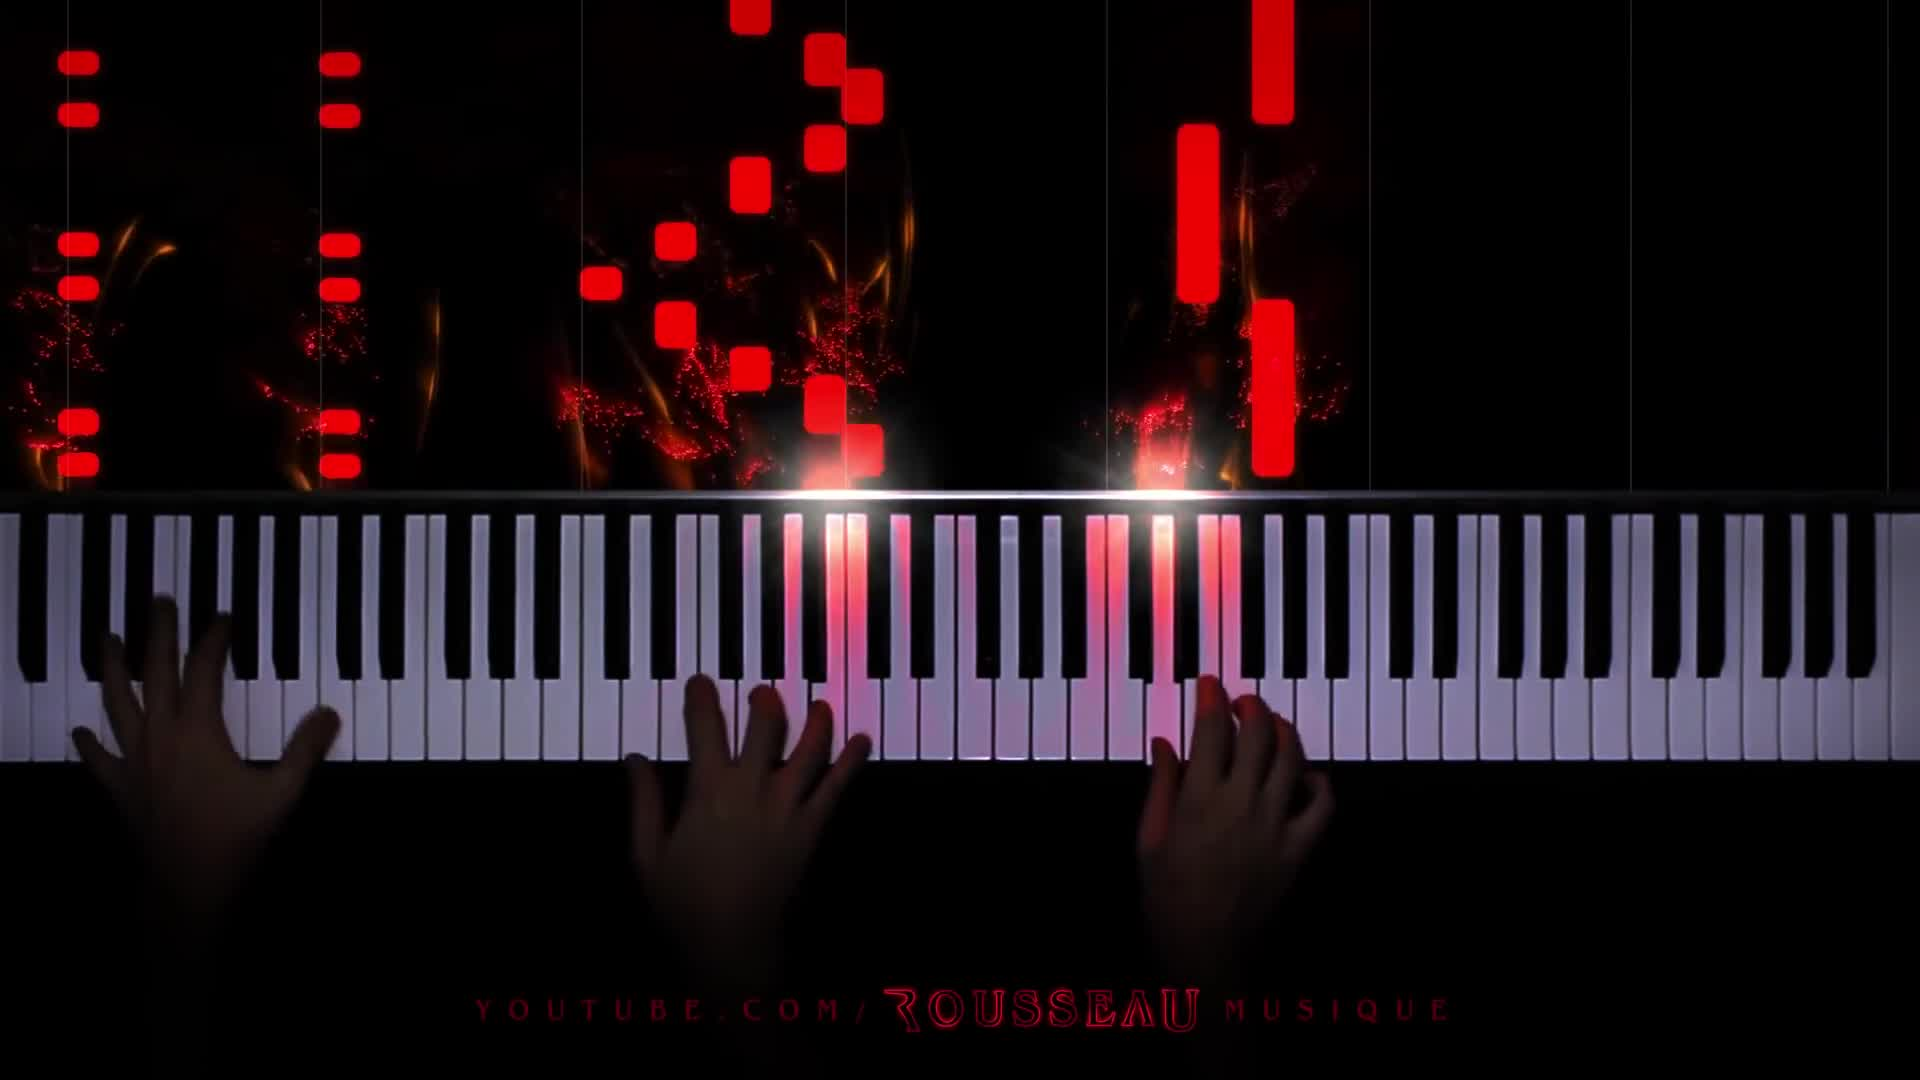left: (78, 593, 344, 876)
right: (617, 673, 876, 916), (1135, 676, 1335, 922)
